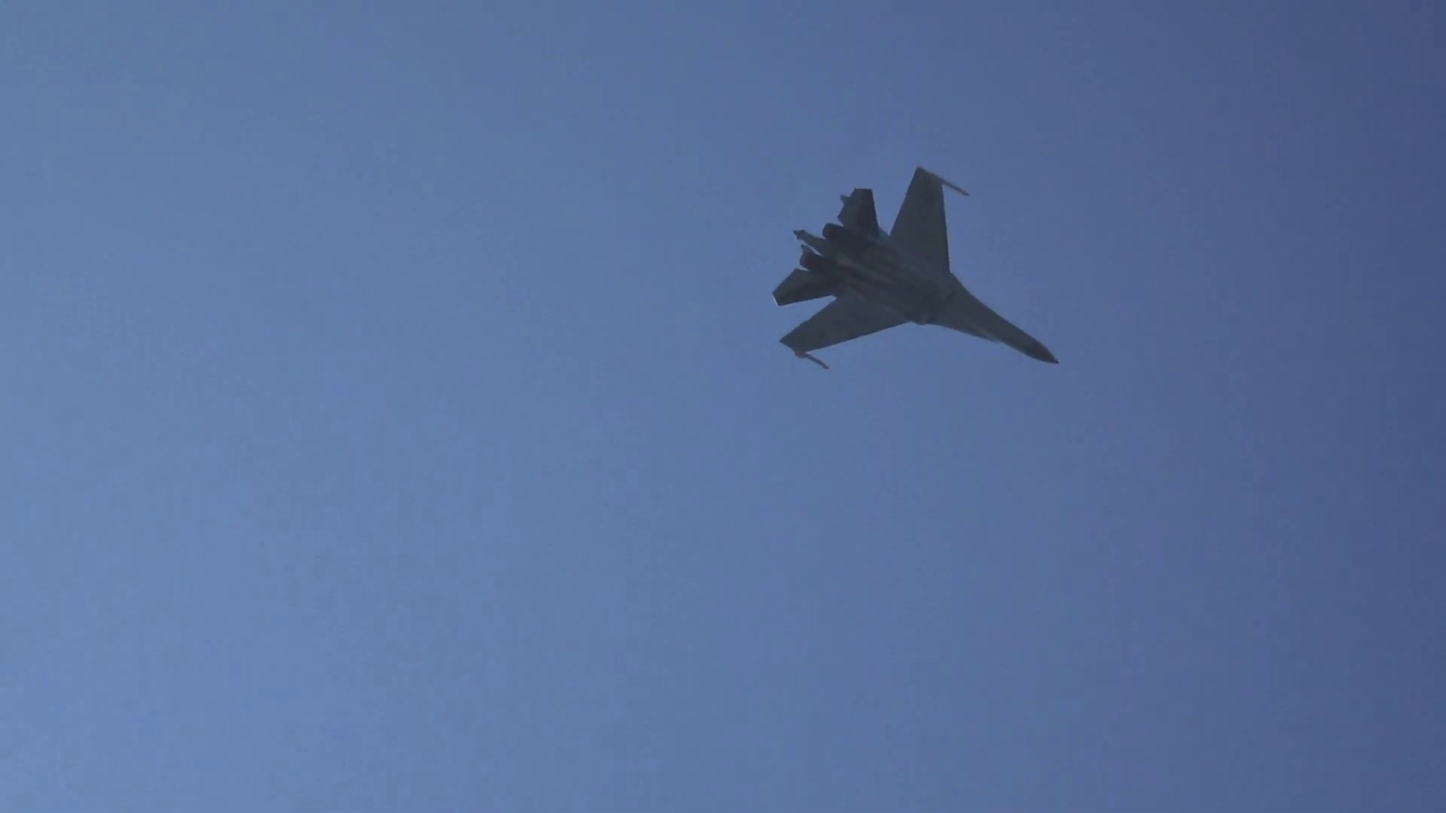Su35: (772, 166, 1060, 370)
